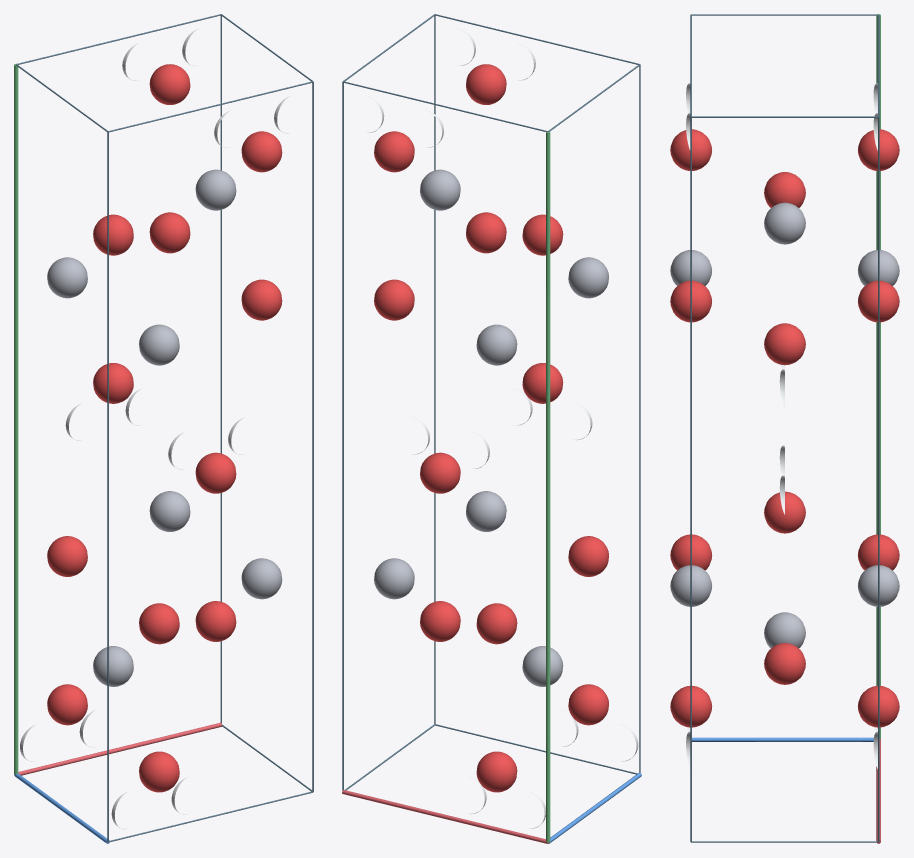
The model's file is boehmite.glb.
3 renders of one model, left to right at view 1: azimuth 30°, elevation 25°; view 2: azimuth 150°, elevation 25°; view 3: azimuth 270°, elevation 25°, orthographic. The views are drawn at different scales.
Parts seen in each view (by area): view 1: Ô mạng và các trục a, b, c, O1 · O · 1 (×6), Al · Al · 1 (×6), O2 · O · 1 (×6); view 2: Ô mạng và các trục a, b, c, O1 · O · 1 (×6), Al · Al · 1 (×6), O2 · O · 1 (×6); view 3: O2 · O · 1 (×6), O1 · O · 1 (×6), Al · Al · 1 (×6), Ô mạng và các trục a, b, c.
Boxes of the visible parts, x1,y1,x2,y2 form: Ô mạng và các trục a, b, c: (14,14,313,843); O1 · O · 1 (×6): (47,212,282,644); Al · Al · 1 (×6): (47,169,282,686); O2 · O · 1 (×6): (47,64,282,792); Ô mạng và các trục a, b, c: (342,14,641,843); O1 · O · 1 (×6): (374,212,608,644); Al · Al · 1 (×6): (374,169,608,686); O2 · O · 1 (×6): (374,64,608,792); O2 · O · 1 (×6): (670,129,899,727); O1 · O · 1 (×6): (670,172,899,684); Al · Al · 1 (×6): (670,202,899,648); Ô mạng và các trục a, b, c: (690,14,880,843).
Bounding box in the file's own units: 3.74 × 12.27 × 3.5.
